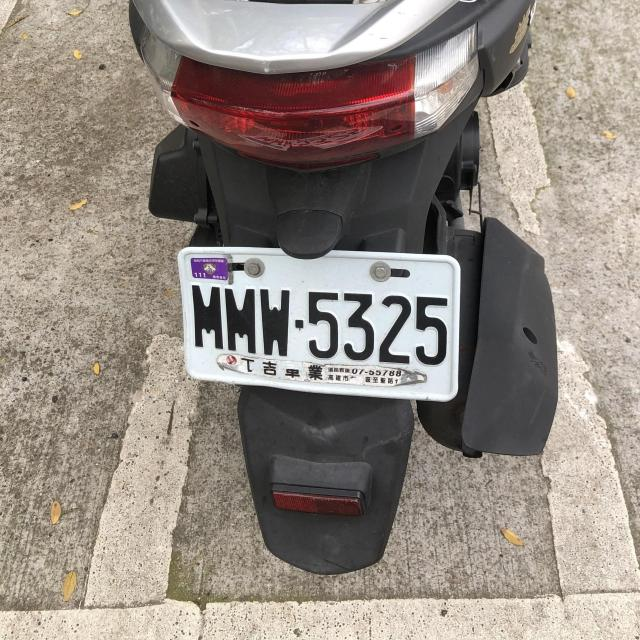W: (174, 245, 462, 399)
